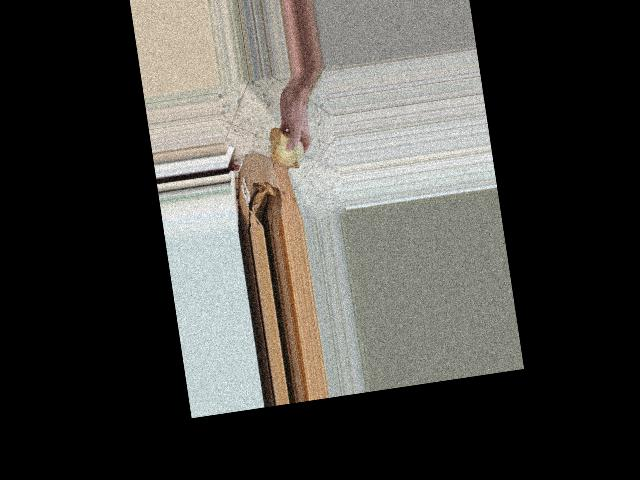onion: (264, 122, 308, 174)
